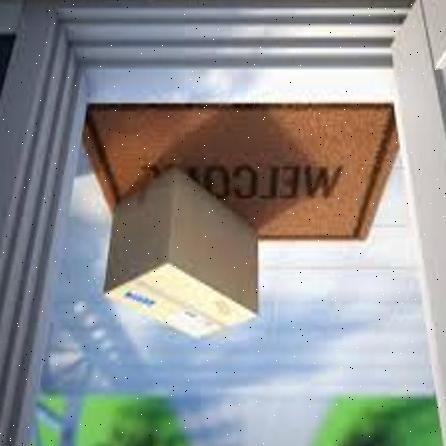Other: (100, 169, 264, 343)
